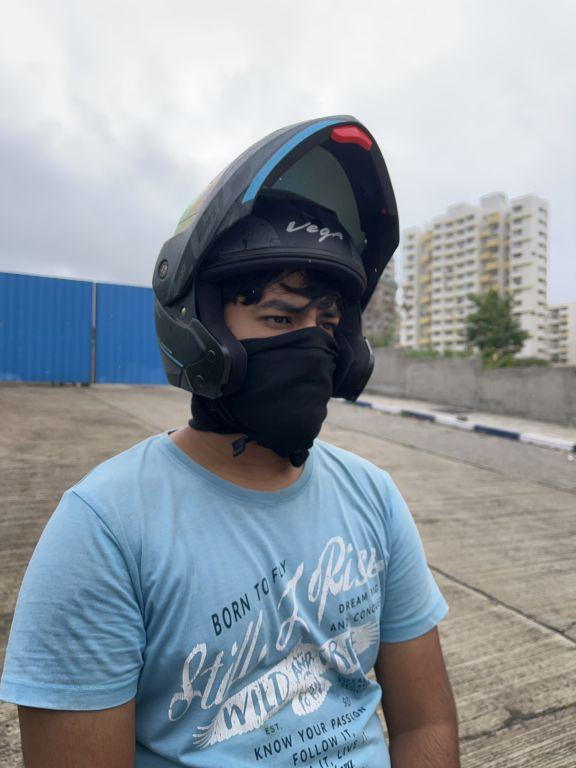helmet: (145, 99, 406, 475)
